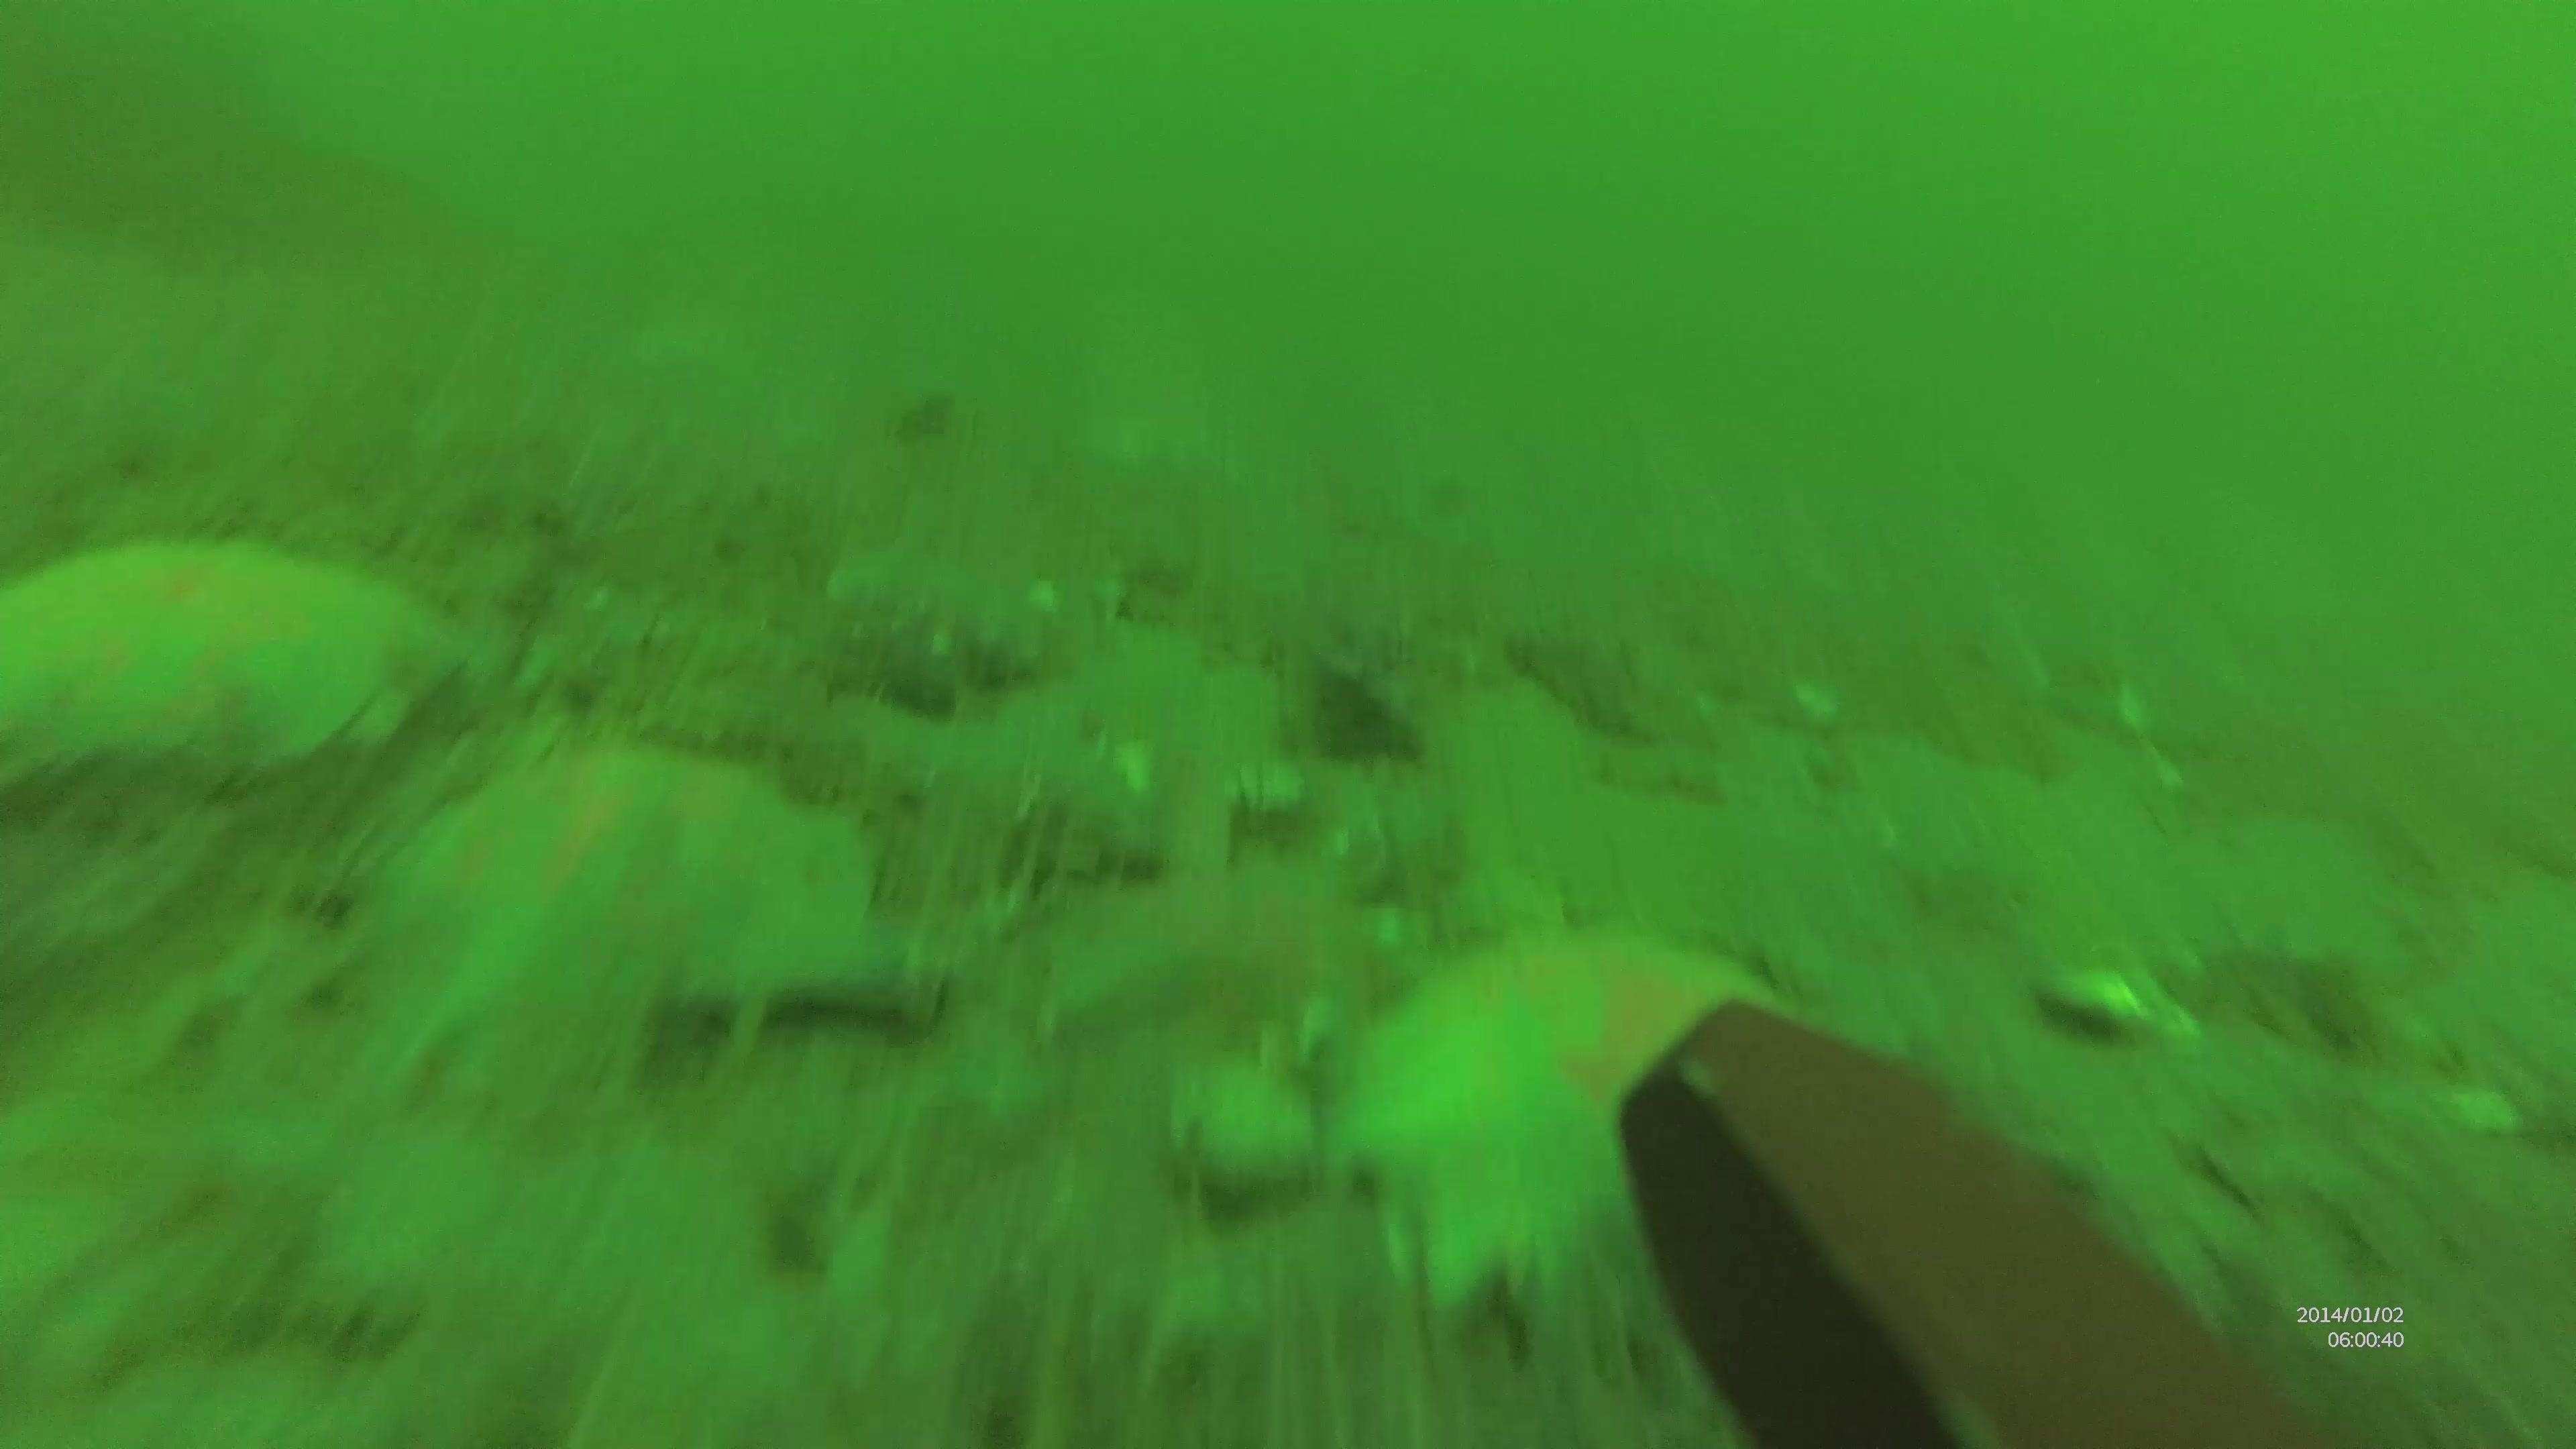starfish: (1364, 927, 1803, 1306), (384, 766, 888, 1085), (0, 556, 469, 763)
